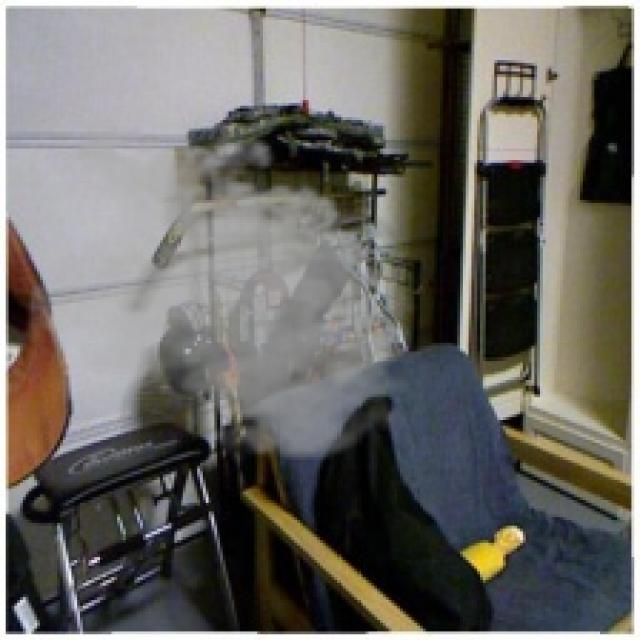smoke: (26, 114, 426, 469)
